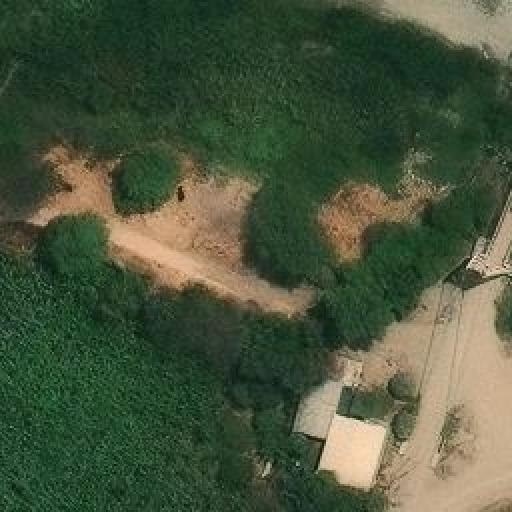manzanas: (284, 341, 391, 503)
